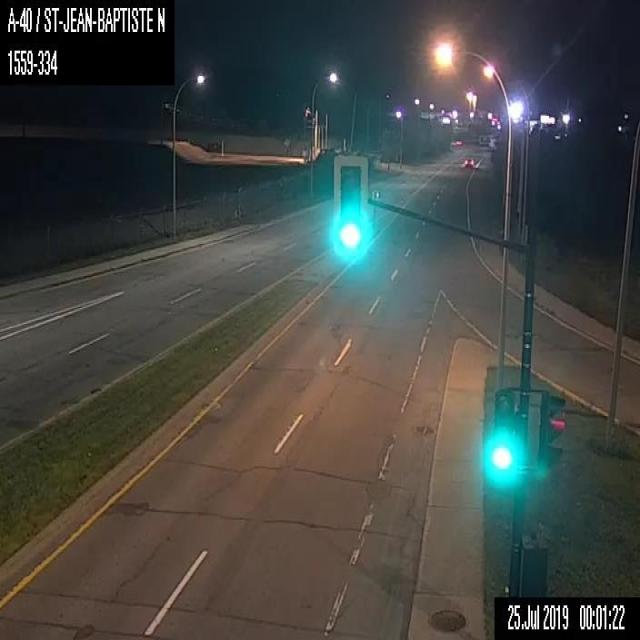vehicle: (464, 157, 473, 167)
